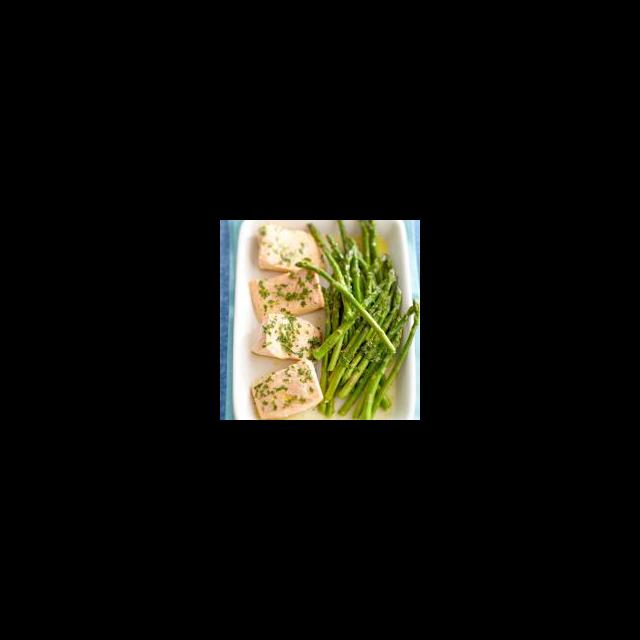ca hoi: (248, 360, 326, 420), (243, 272, 332, 320), (249, 312, 323, 364), (256, 222, 319, 270)
